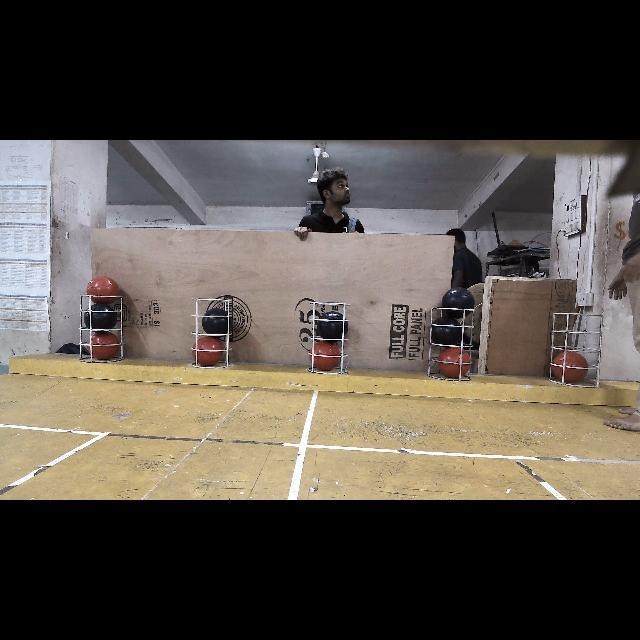P: (84, 303, 120, 333), (442, 288, 475, 319), (199, 307, 233, 337), (316, 310, 350, 340), (432, 317, 466, 345)
R: (436, 342, 472, 382), (552, 350, 588, 384), (190, 336, 226, 366), (88, 330, 122, 360), (311, 339, 341, 373), (86, 276, 120, 304)
S: (545, 309, 603, 386), (427, 304, 479, 381), (78, 292, 130, 368), (308, 294, 354, 374), (183, 296, 234, 368)
